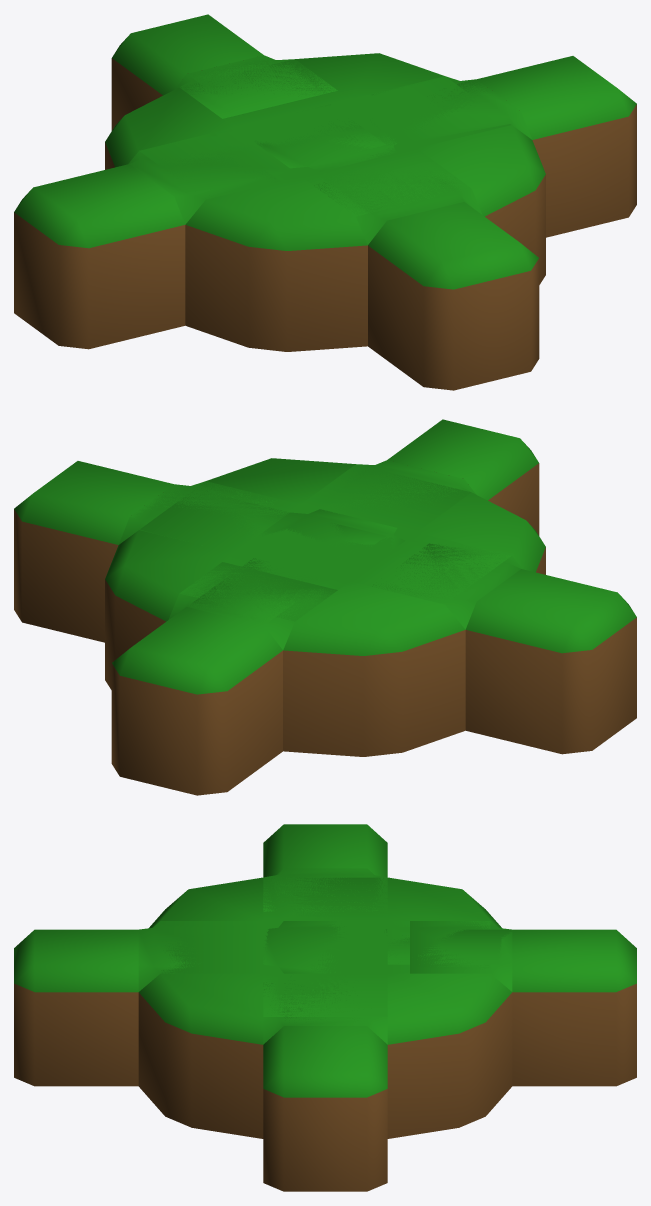
The model's file is mdl_tilesV2.fbx.
The picture shows the model from 3 angles, top to bottom: view 1: azimuth 30°, elevation 25°; view 2: azimuth 150°, elevation 25°; view 3: azimuth 270°, elevation 25°; orthographic projection. The views are drawn at different scales.
Visible parts, largest first — view 1: Up_Back_Right, Up_InBetween_Single_Right, Up_Back_Single, Up_InBetween_Single_Left, Up_Back_Left, Up_Front_Single, Up_Conector_T_Back, Up_Conector_T_Right, Up_Conector_T_NoSide_Front, Up_Back_Center, Up_Front_Right, Up_InBetween_Left (+11 smaller); view 2: Up_Front_Right, Up_InBetween_Single_Right, Up_Front_Single, Up_InBetween_Single_Left, Up_Front_Left, Up_Back_Single, Up_Back_Center, Up_Back_Right, Up_InBetween_Left, Up_Conector_T_NoSide_Front, Up_InBetween_Right, Up_Conector_T_Right (+12 smaller); view 3: Up_InBetween_Single_Left, Up_Back_Single, Up_Front_Single, Up_Back_Left, Up_Front_Left, Up_InBetween_Single_Right, Up_InBetween_Left, Up_InBetween_Right, Up_Back_Center, Up_Conector_T_Right, Up_Conector_T_NoSide_Front, Up_Conector_X (+11 smaller).
Boxes of the visible parts, box(x1,y1,x2,y2) form: Up_Back_Right: box(185, 176, 367, 351); Up_InBetween_Single_Right: box(14, 164, 185, 349); Up_Back_Single: box(368, 202, 539, 390); Up_InBetween_Single_Left: box(477, 56, 636, 237); Up_Back_Left: box(417, 125, 545, 284); Up_Front_Single: box(111, 14, 263, 130); Up_Conector_T_Back: box(301, 148, 482, 244); Up_Conector_T_Right: box(128, 127, 300, 224); Up_Conector_T_NoSide_Front: box(175, 55, 337, 118); Up_Back_Center: box(303, 148, 471, 216); Up_Front_Right: box(105, 87, 233, 169); Up_InBetween_Left: box(350, 76, 511, 147); Up_Front_Right: box(283, 581, 465, 756); Up_InBetween_Single_Right: box(465, 569, 636, 754); Up_Front_Single: box(111, 607, 282, 795); Up_InBetween_Single_Left: box(14, 461, 173, 642); Up_Front_Left: box(105, 530, 233, 689); Up_Back_Single: box(387, 419, 539, 535); Up_Back_Center: box(301, 464, 471, 532); Up_Back_Right: box(417, 492, 545, 574); Up_InBetween_Left: box(140, 481, 300, 552); Up_Conector_T_NoSide_Front: box(168, 562, 337, 649); Up_InBetween_Right: box(350, 544, 511, 601); Up_Conector_T_Right: box(364, 532, 520, 629); Up_InBetween_Single_Left: box(263, 1026, 387, 1191); Up_Back_Single: box(14, 929, 138, 1086); Up_Front_Single: box(512, 929, 636, 1086); Up_Back_Left: box(138, 973, 263, 1138); Up_Front_Left: box(387, 973, 512, 1138); Up_InBetween_Single_Right: box(263, 824, 387, 877); Up_InBetween_Left: box(263, 973, 387, 1016); Up_InBetween_Right: box(263, 877, 387, 920); Up_Back_Center: box(160, 921, 263, 973); Up_Conector_T_Right: box(263, 868, 387, 920); Up_Conector_T_NoSide_Front: box(410, 921, 512, 991); Up_Conector_X: box(263, 921, 387, 973).
Size of the model in its own units: 1.25 by 0.25 by 1.25.
